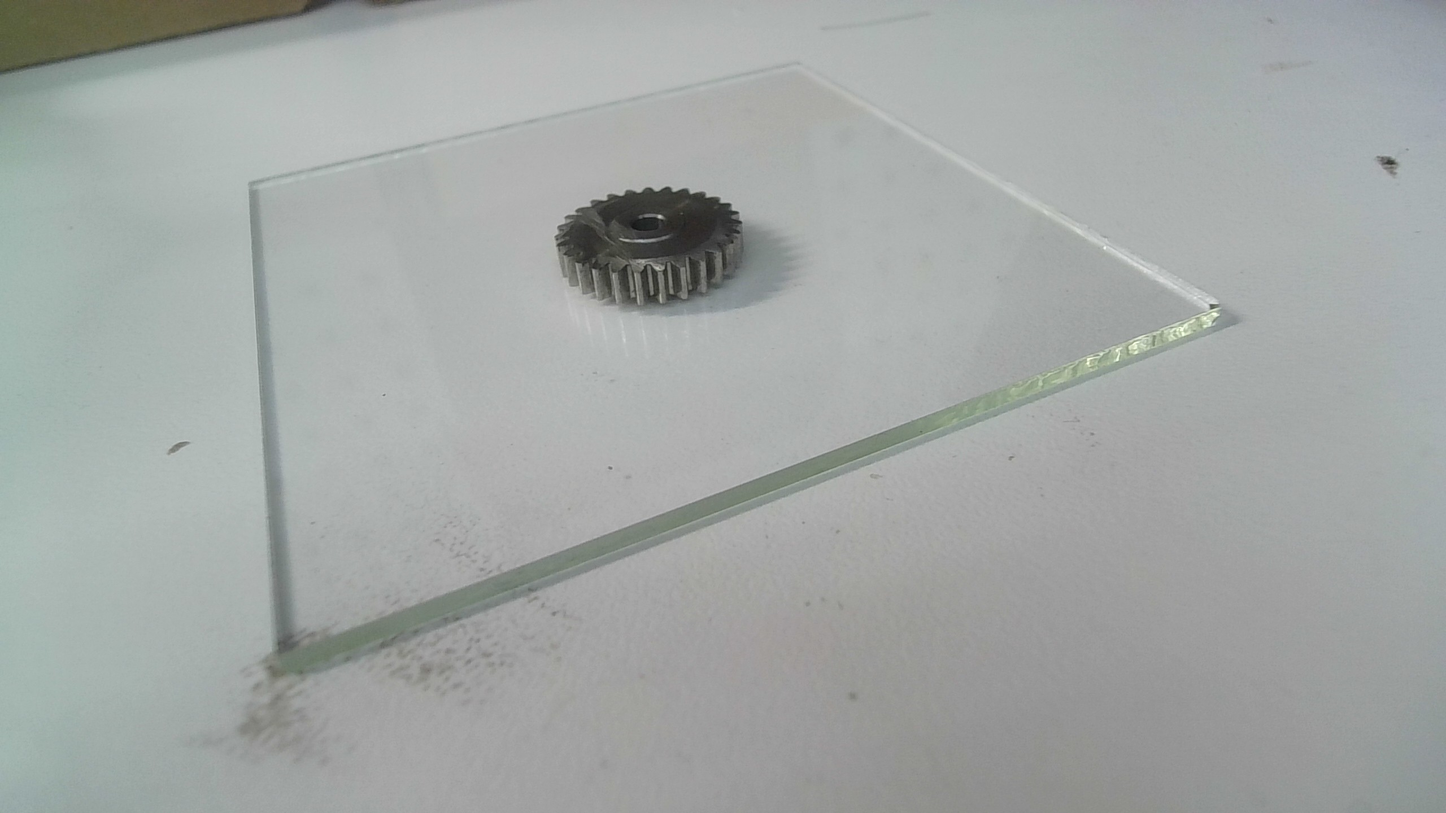gear: (551, 183, 746, 312)
